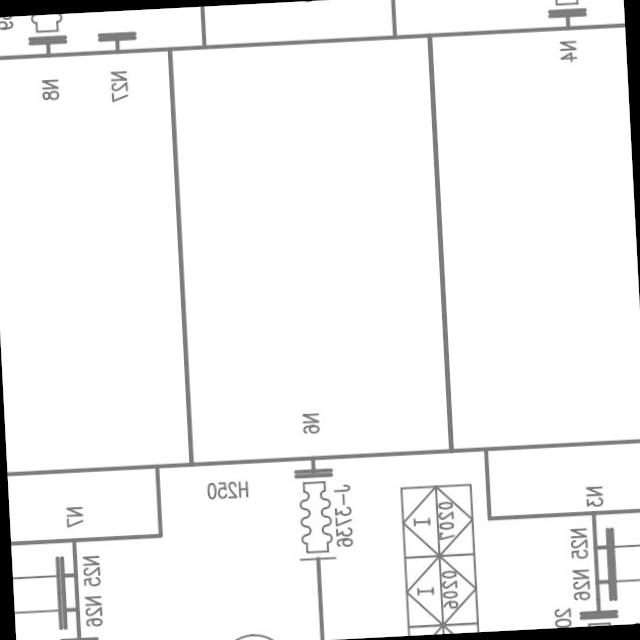EJ: (288, 471, 342, 565)
